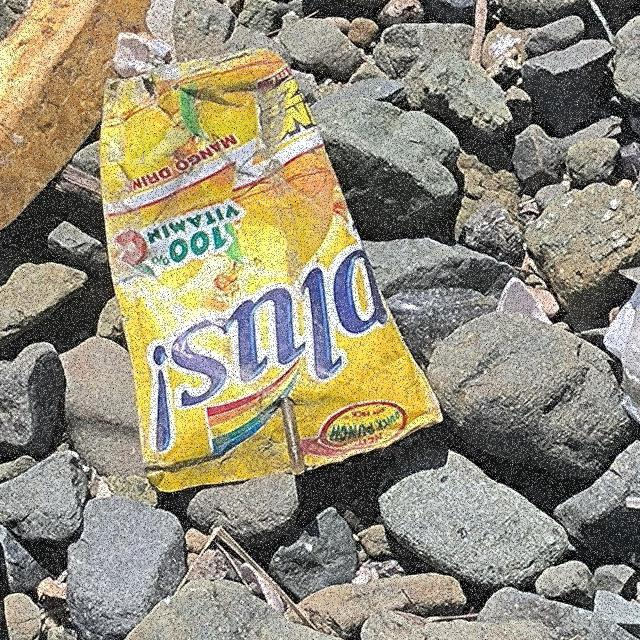plastic_waste: (98, 45, 449, 497)
